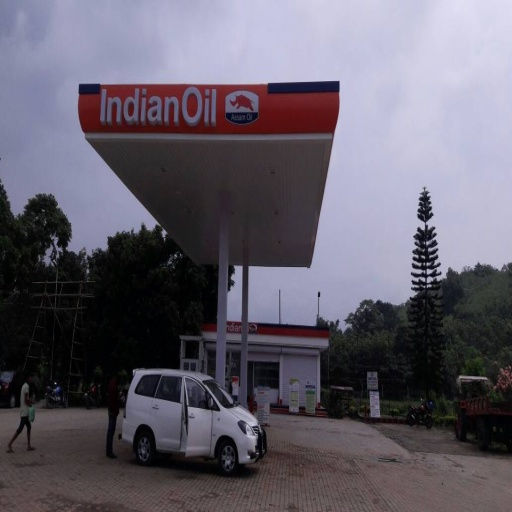roof: (78, 83, 334, 270)
